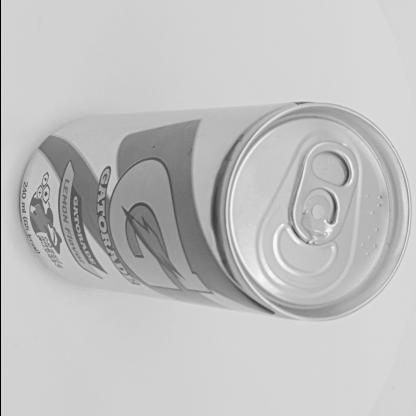alumunium_can: (12, 101, 416, 324)
